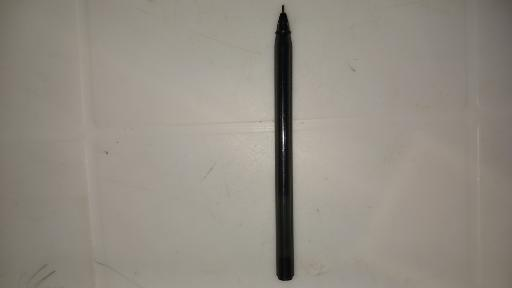pen: (275, 3, 293, 283)
